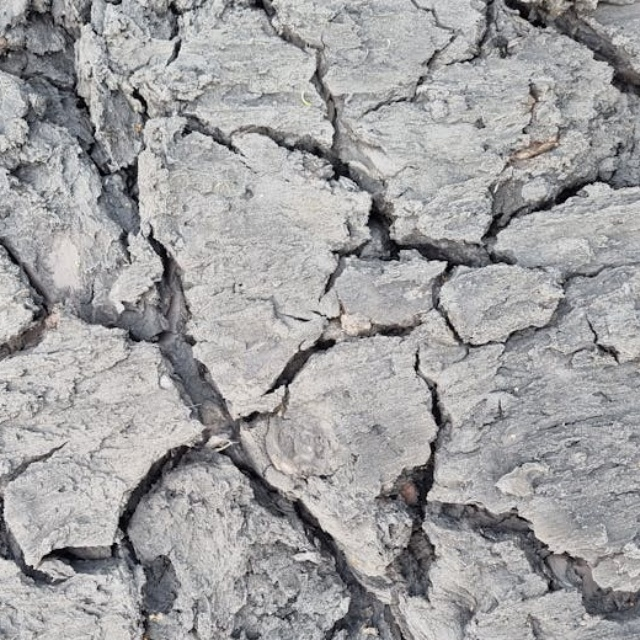网状裂隙: (2, 163, 640, 640)
